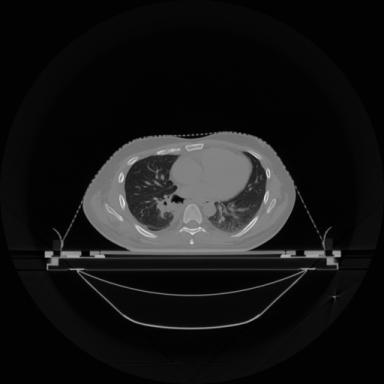body: (84, 132, 296, 251)
cord: (179, 204, 206, 244)
paru kanan: (125, 155, 177, 230)
paru kiri: (208, 152, 266, 232)
